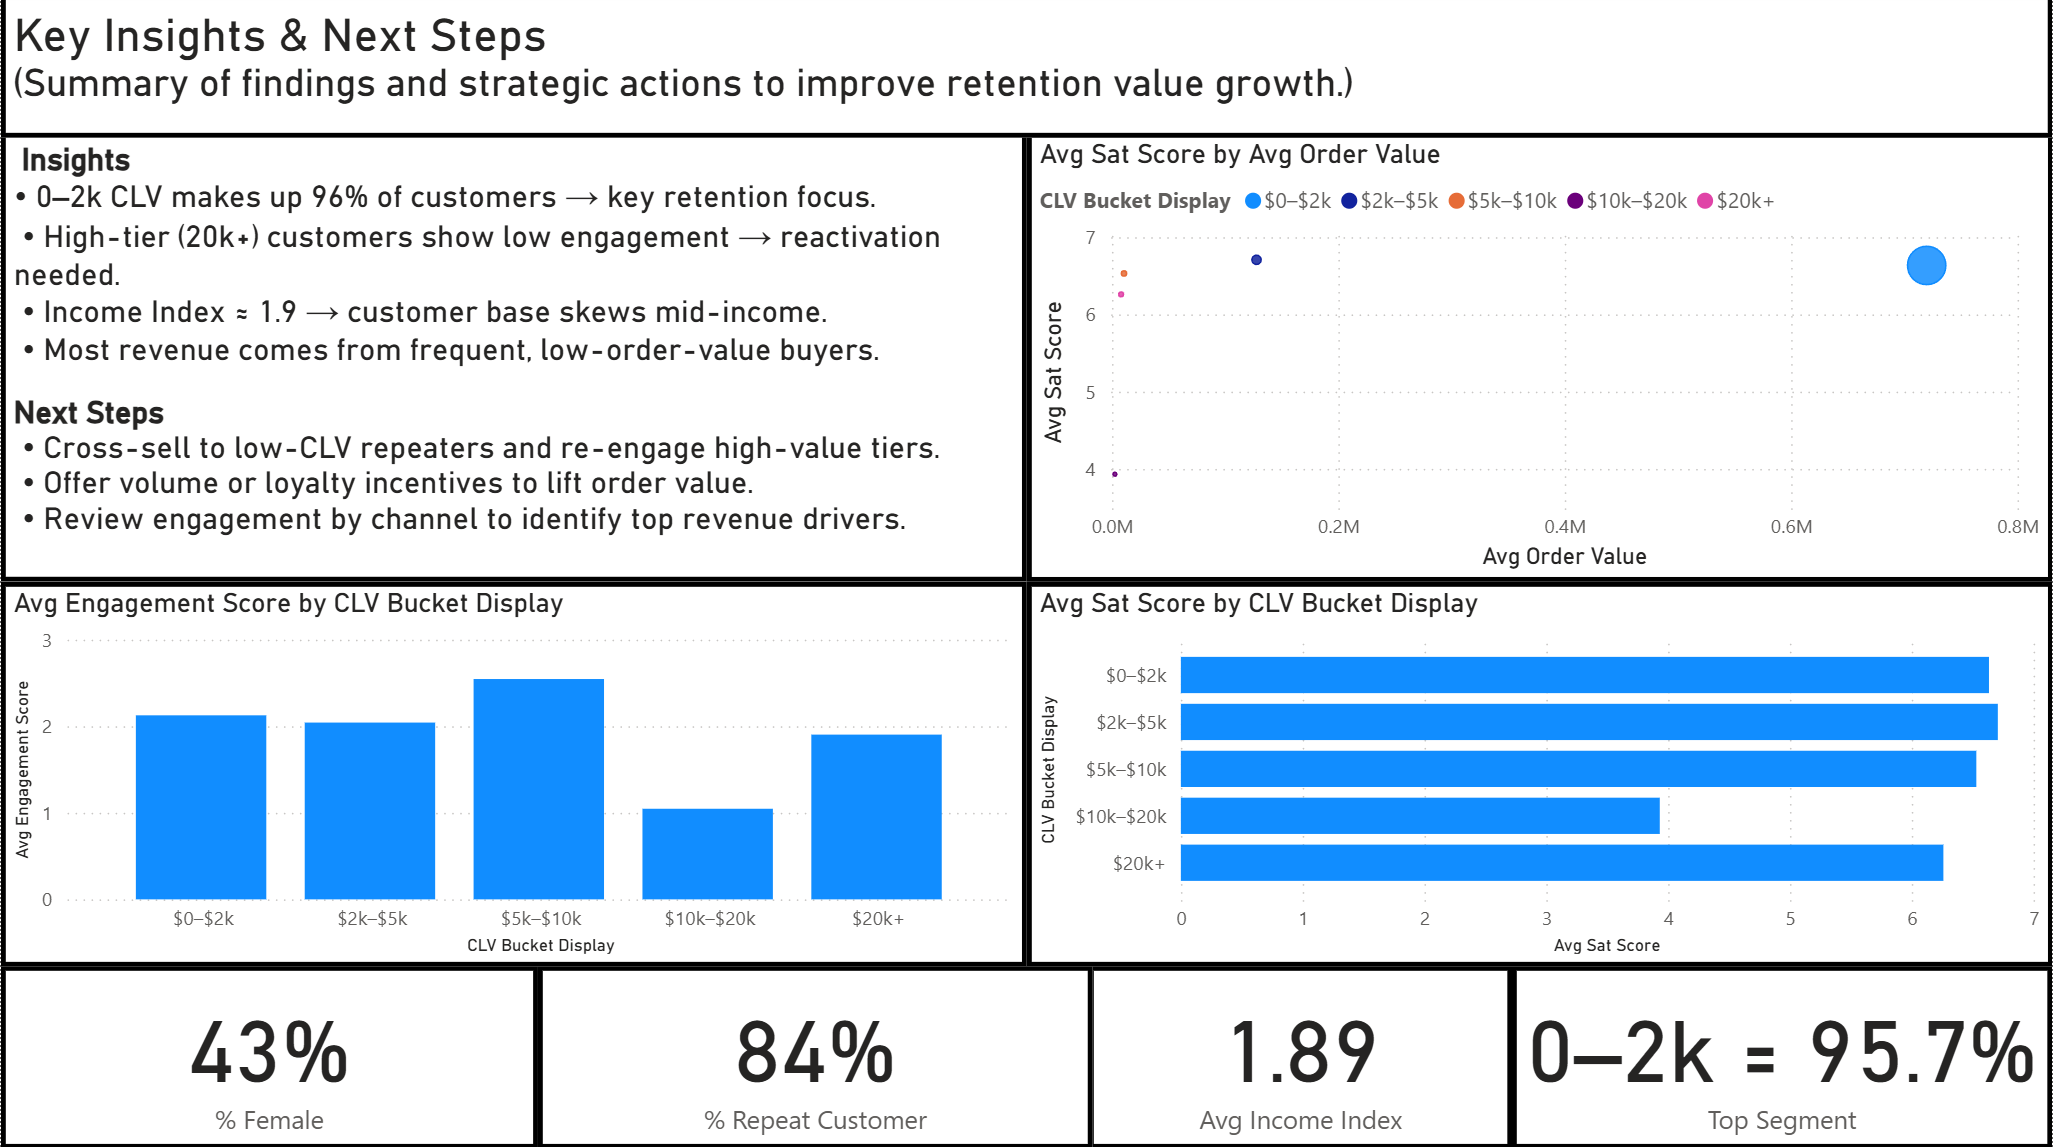

The page's visual inventory and layout, read from the dashboard file:
{"tool":"powerbi","page":{"name":"Insights & Actions","canvas":[1280,720],"ordinal":3},"visuals":[{"type":"card","fields":{"Values":["Measures_Table.% Female"]},"box":[0,606,335,114],"z":0},{"type":"card","fields":{"Values":["Measures_Table.Avg Income Index2"]},"box":[679,606,264,114],"z":1000},{"type":"card","fields":{"Values":["Measures_Table.% Repeat Customer True"]},"box":[335,606,346,114],"z":2000},{"type":"card","fields":{"Values":["Measures_Table.Top CLV Bucket (Label)"]},"box":[943,606,337,114],"z":3000},{"type":"clusteredBarChart","fields":{"Y":["Avg(F_public_customer_satisfaction.Satisfaction Score)"],"Category":["DimCustomer.CLV Bucket Display"]},"box":[640,366,640,240],"z":4000},{"type":"columnChart","fields":{"Y":["Measures_Table.Avg Engagement Score"],"Category":["DimCustomer.CLV Bucket Display"]},"box":[0,366,640,240],"z":5000},{"type":"textbox","box":[0,83,640,283],"z":6000},{"type":"scatterChart","title":"Avg Sat Score by Avg Order Value","fields":{"X":["Sum(F_public_customer_value.average_order_value)"],"Y":["Avg(F_public_customer_satisfaction.Satisfaction Score)"],"Size":["Sum(DimCustomer.Customers)"],"Category":["DimCustomer.CLV Bucket Display"],"Series":["DimCustomer.CLV Bucket Display"]},"box":[640,86,640,280],"z":7000},{"type":"textbox","box":[0,0,1280,89],"z":8000}]}

Visuals, with their boxes in screenshot pixels (x1, y1, x2, y2), scaled from the page's 1280x720 canvas onto the 2053x1147 screenshot:
card - Measures_Table.% Female: 0/965/537/1146
card - Measures_Table.Avg Income Index2: 1089/965/1512/1146
card - Measures_Table.% Repeat Customer True: 537/965/1092/1146
card - Measures_Table.Top CLV Bucket (Label): 1512/965/2052/1146
clusteredBarChart - Avg(F_public_customer_satisfaction.Satisfaction Score) x DimCustomer.CLV Bucket Display: 1026/583/2052/965
columnChart - Measures_Table.Avg Engagement Score x DimCustomer.CLV Bucket Display: 0/583/1026/965
textbox: 0/132/1026/583
"Avg Sat Score by Avg Order Value" scatterChart: 1026/137/2052/583
textbox: 0/0/2052/142
